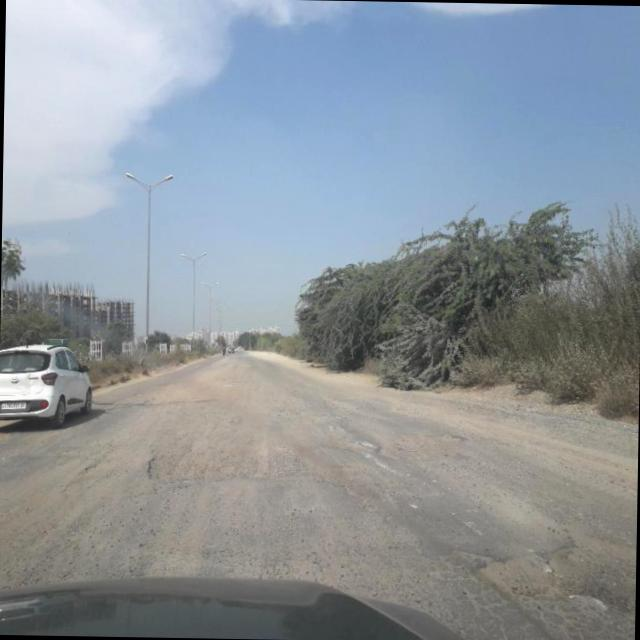crack: (424, 537, 622, 640), (324, 470, 424, 554)
pothole: (475, 535, 634, 617), (140, 427, 318, 487), (62, 426, 126, 489), (429, 420, 478, 450), (337, 424, 386, 454)
